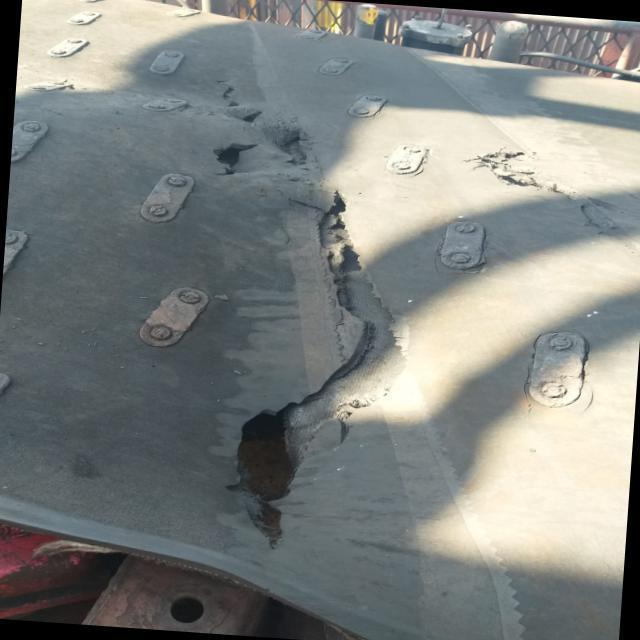Tear: (209, 70, 410, 553), (452, 124, 632, 244)
